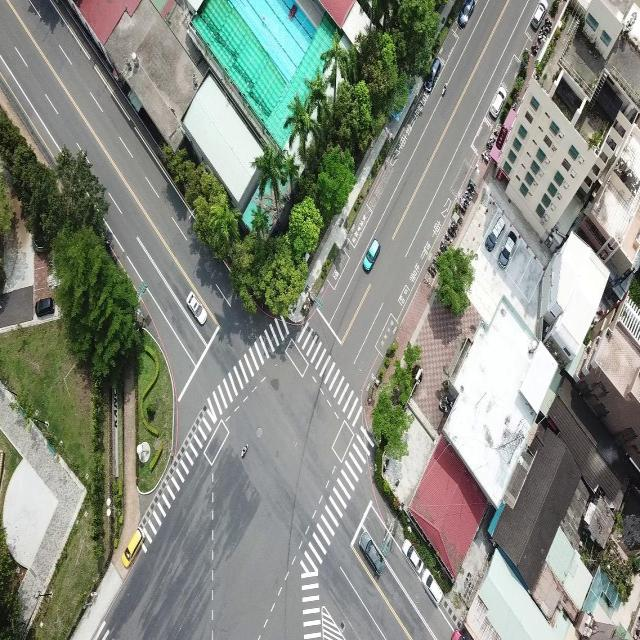bike: (240, 444, 249, 459), (441, 82, 448, 98), (466, 186, 476, 196), (444, 233, 453, 243), (450, 220, 459, 230), (427, 266, 435, 277), (448, 227, 456, 238), (482, 151, 489, 163), (486, 141, 494, 151), (463, 196, 471, 205), (465, 191, 473, 199)
car: (358, 529, 382, 577), (122, 528, 146, 568), (484, 211, 507, 251), (497, 228, 518, 268), (403, 539, 425, 576), (187, 289, 208, 324), (422, 571, 442, 607), (489, 82, 507, 120), (362, 238, 380, 274), (423, 56, 441, 92), (532, 0, 550, 30), (457, 0, 475, 27), (33, 297, 54, 318), (449, 628, 466, 640)
